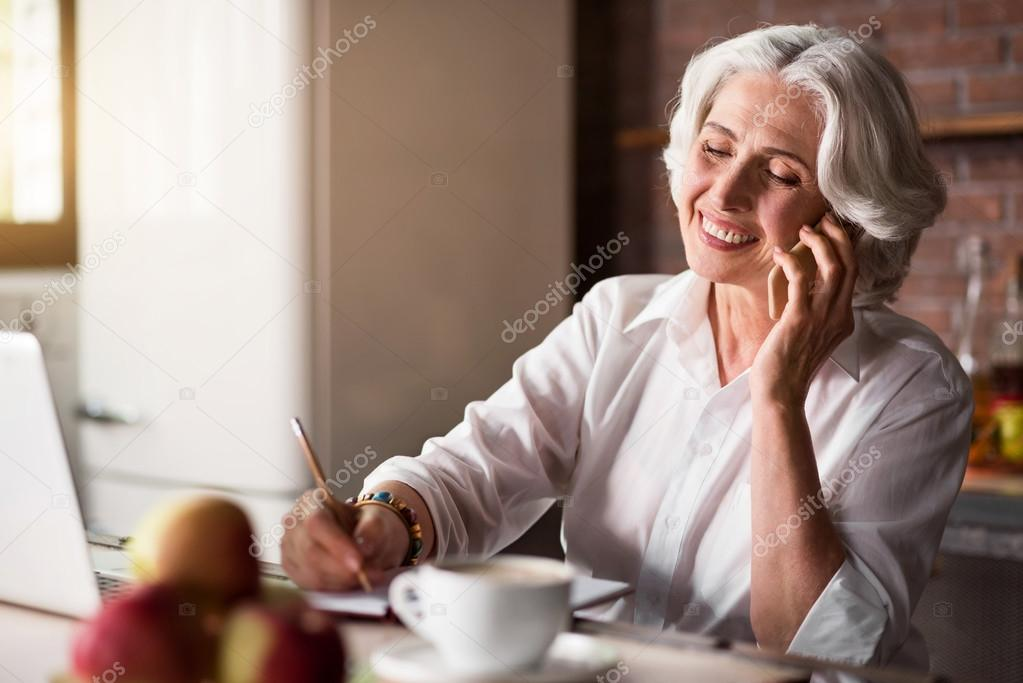phone: (770, 212, 865, 333)
talk: (679, 120, 863, 384)
